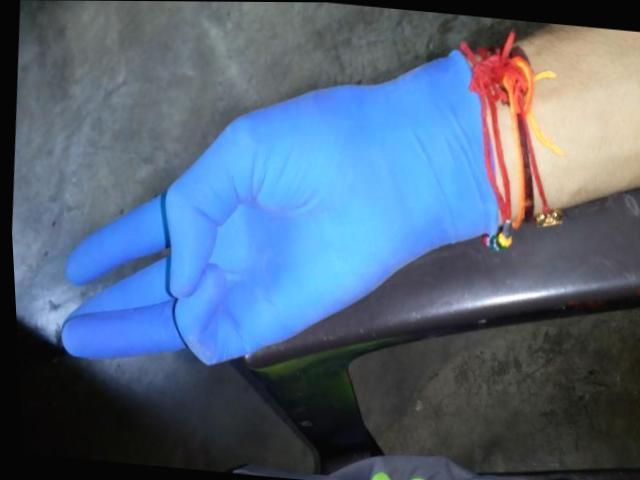Hand-in-Glove: (23, 0, 566, 422)
